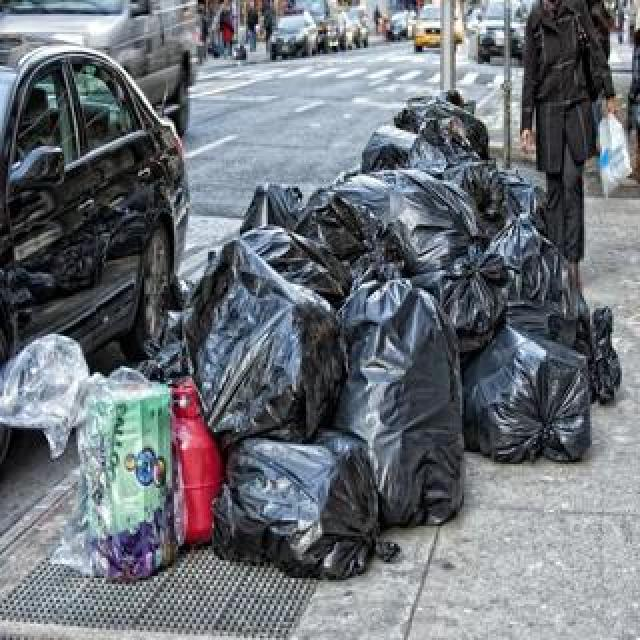high trash: (0, 100, 616, 577)
